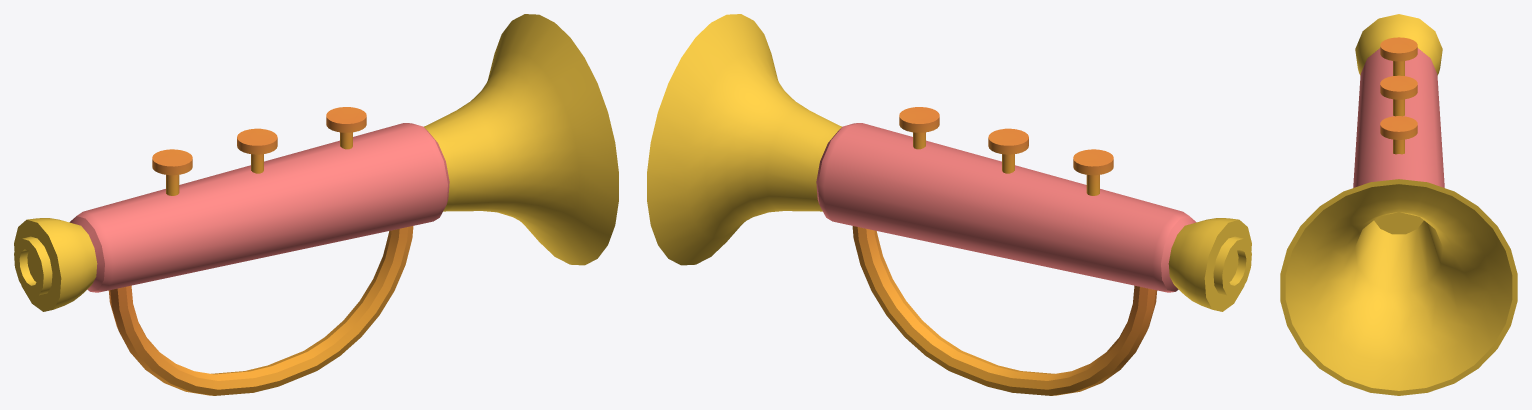
The model's file is Toy_M_2.fbx.
3 renders of one model, left to right at view 1: azimuth 30°, elevation 25°; view 2: azimuth 150°, elevation 25°; view 3: azimuth 270°, elevation 25°, orthographic. The views are drawn at different scales.
Visible parts, largest first — view 1: Toy_M_2; view 2: Toy_M_2; view 3: Toy_M_2.
Part boxes in pixels (bbox=[...]): Toy_M_2: bbox=[14, 14, 618, 395]; Toy_M_2: bbox=[647, 14, 1251, 395]; Toy_M_2: bbox=[1280, 14, 1517, 395].
Bounding box in the file's own units: 73.89 × 39.61 × 31.23.
Materials: 1 (1 with a texture image).
